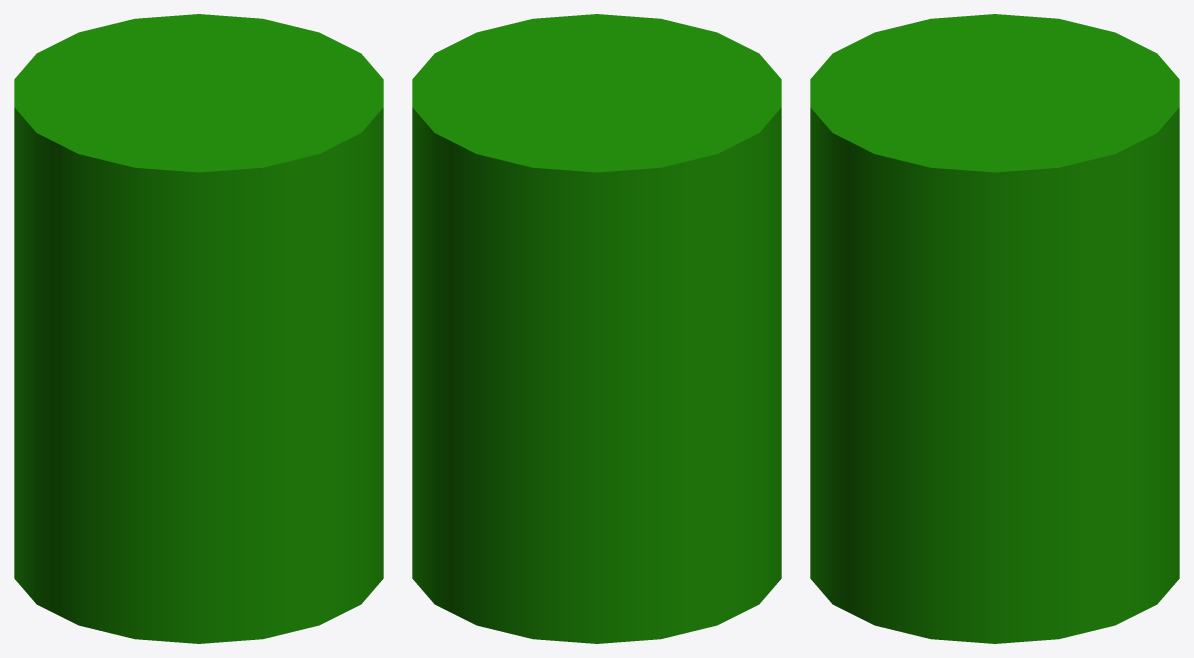
3 renders of one model, left to right at view 1: azimuth 30°, elevation 25°; view 2: azimuth 150°, elevation 25°; view 3: azimuth 270°, elevation 25°, orthographic.
Visible parts, largest first — view 1: Cylinder001; view 2: Cylinder001; view 3: Cylinder001.
Part boxes in pixels (x1,y1,x2,y2): Cylinder001: (14,14,383,643); Cylinder001: (412,14,781,643); Cylinder001: (810,14,1179,643).
Bounding box in the file's own units: 21.77 × 30.18 × 21.44.
